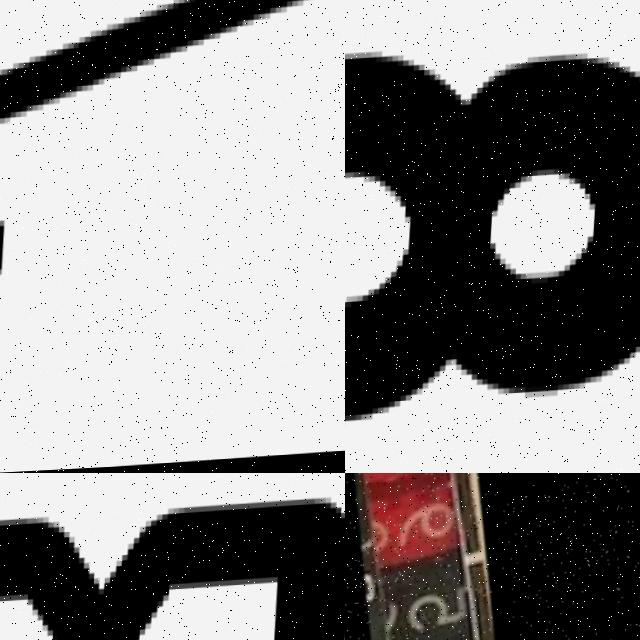3: (0, 496, 345, 640)
5: (403, 588, 479, 640)
8: (345, 33, 640, 445)
9: (390, 501, 468, 558)
J: (0, 0, 345, 341)
